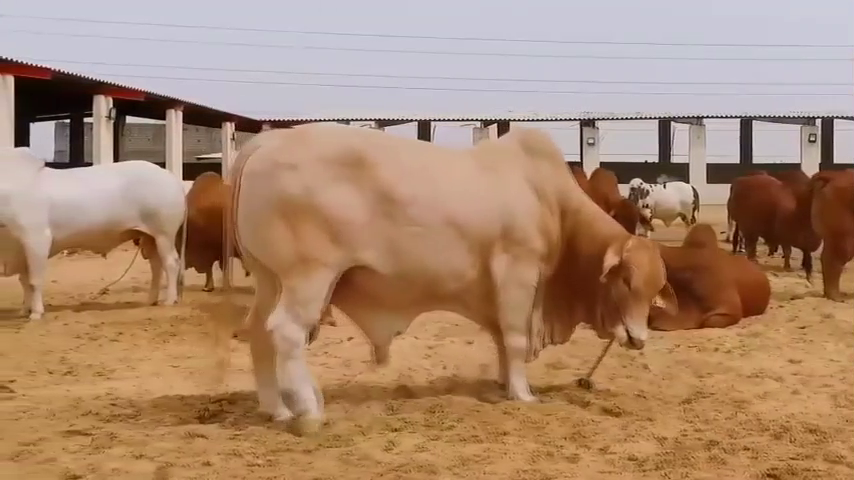bo: (216, 122, 685, 438), (1, 139, 189, 326), (635, 222, 772, 333), (725, 164, 812, 276), (181, 162, 241, 305), (792, 163, 848, 311), (560, 150, 647, 236), (624, 173, 707, 238)
